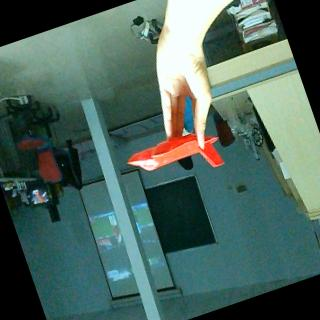Jet: (122, 122, 227, 196)
